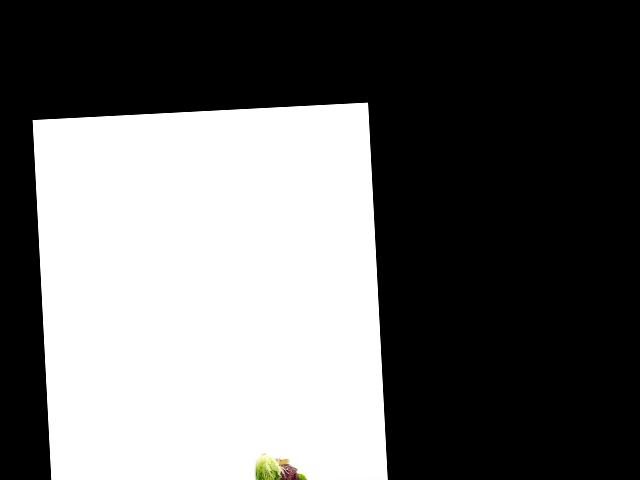lettuce: (289, 473, 312, 480)
